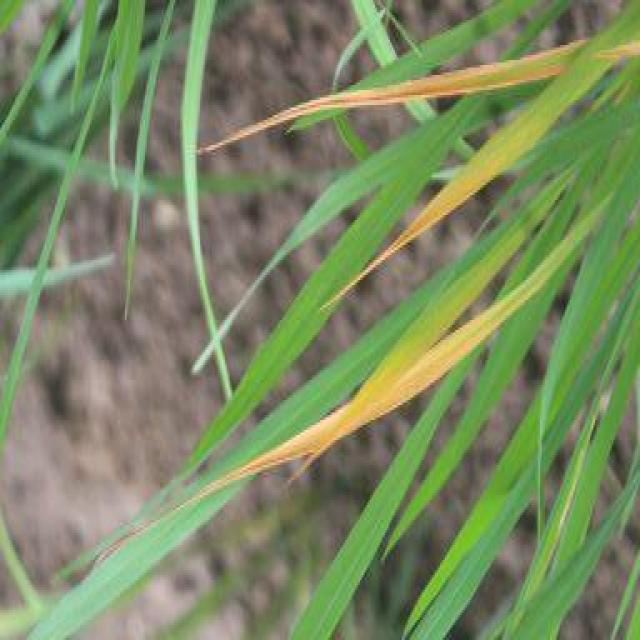Tungro: (238, 195, 605, 470), (174, 49, 640, 161)
